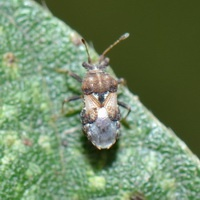insect: (58, 33, 130, 149)
